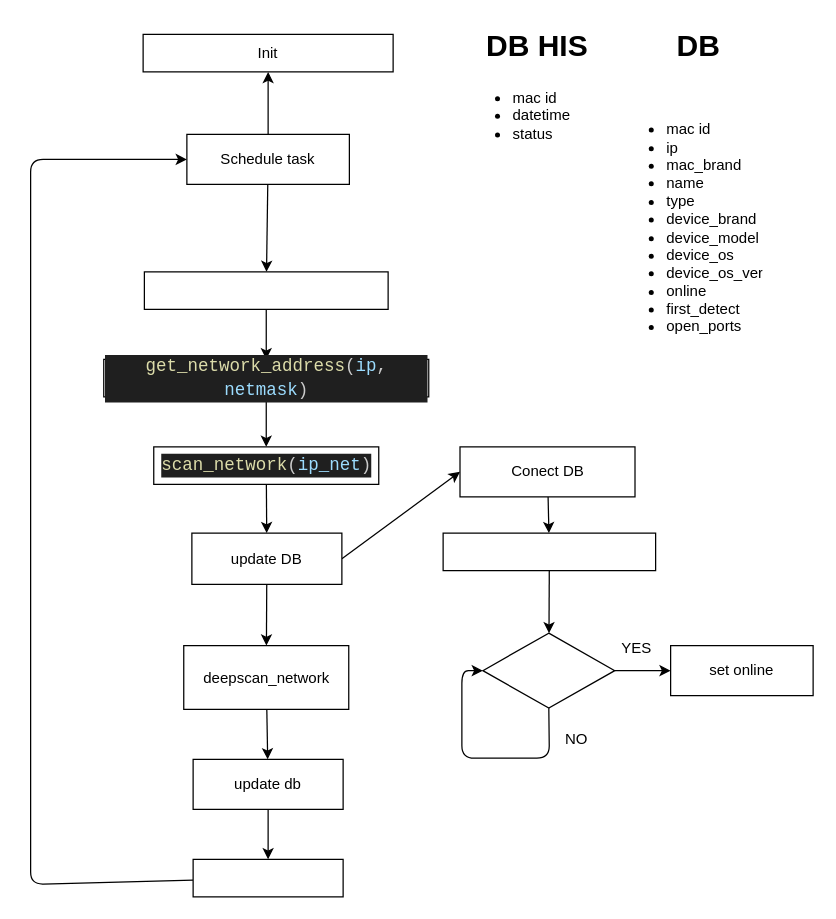
Some shapes in this 836 by 919 pixel diagram are drawn without their labels. The shapes that lost their labels are listed below. From the top down, each one's box as (x1, y1, x2, y2) in pixels, then its label:
(143, 271, 388, 309): get_ipconfig_data ()
(442, 532, 656, 571): set all devices offline
(482, 632, 615, 708): device exist
(192, 858, 343, 897): end
